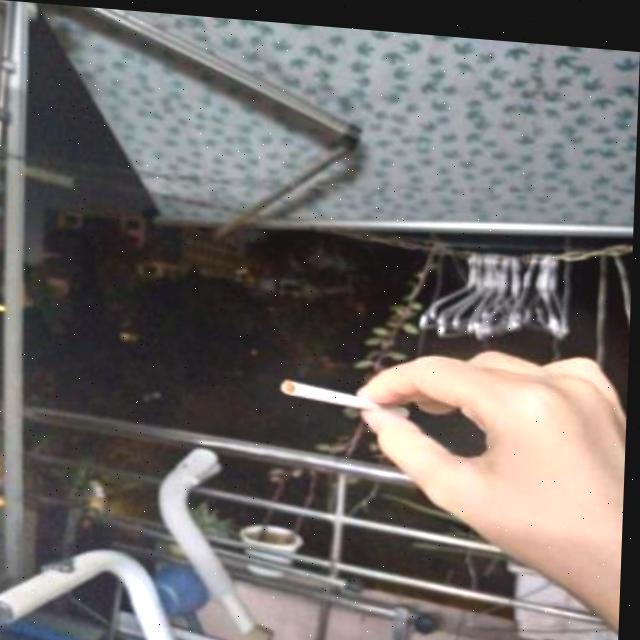cigarette: (282, 374, 414, 412)
